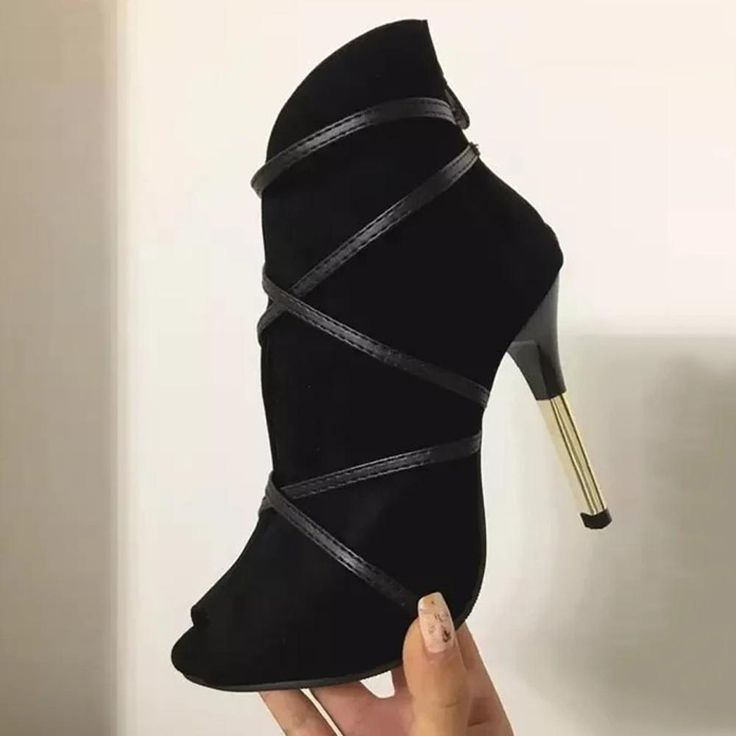gamuza: (172, 19, 564, 684)
